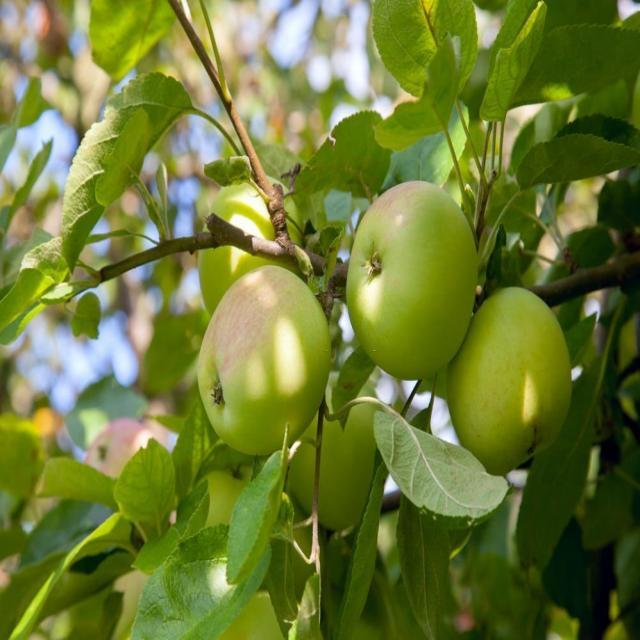Green Apple: (355, 181, 478, 374), (456, 291, 577, 468), (202, 274, 324, 446), (200, 154, 298, 301), (296, 366, 387, 520)
